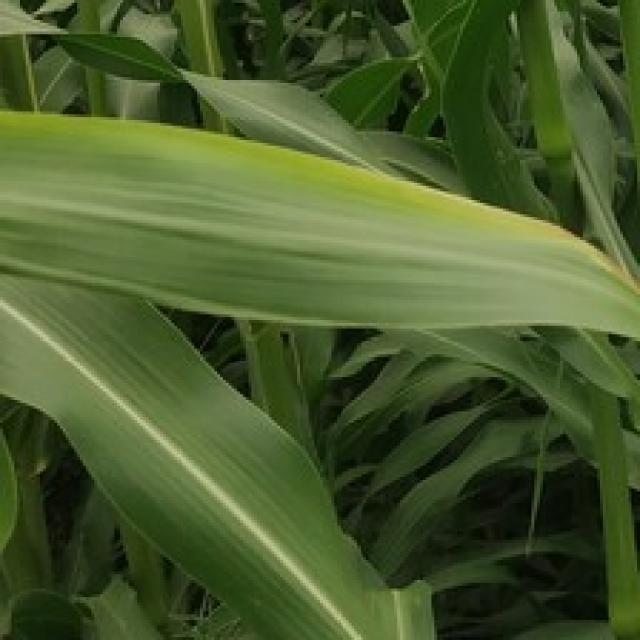Corn: (0, 0, 637, 637), (0, 249, 440, 637), (0, 97, 637, 349)
